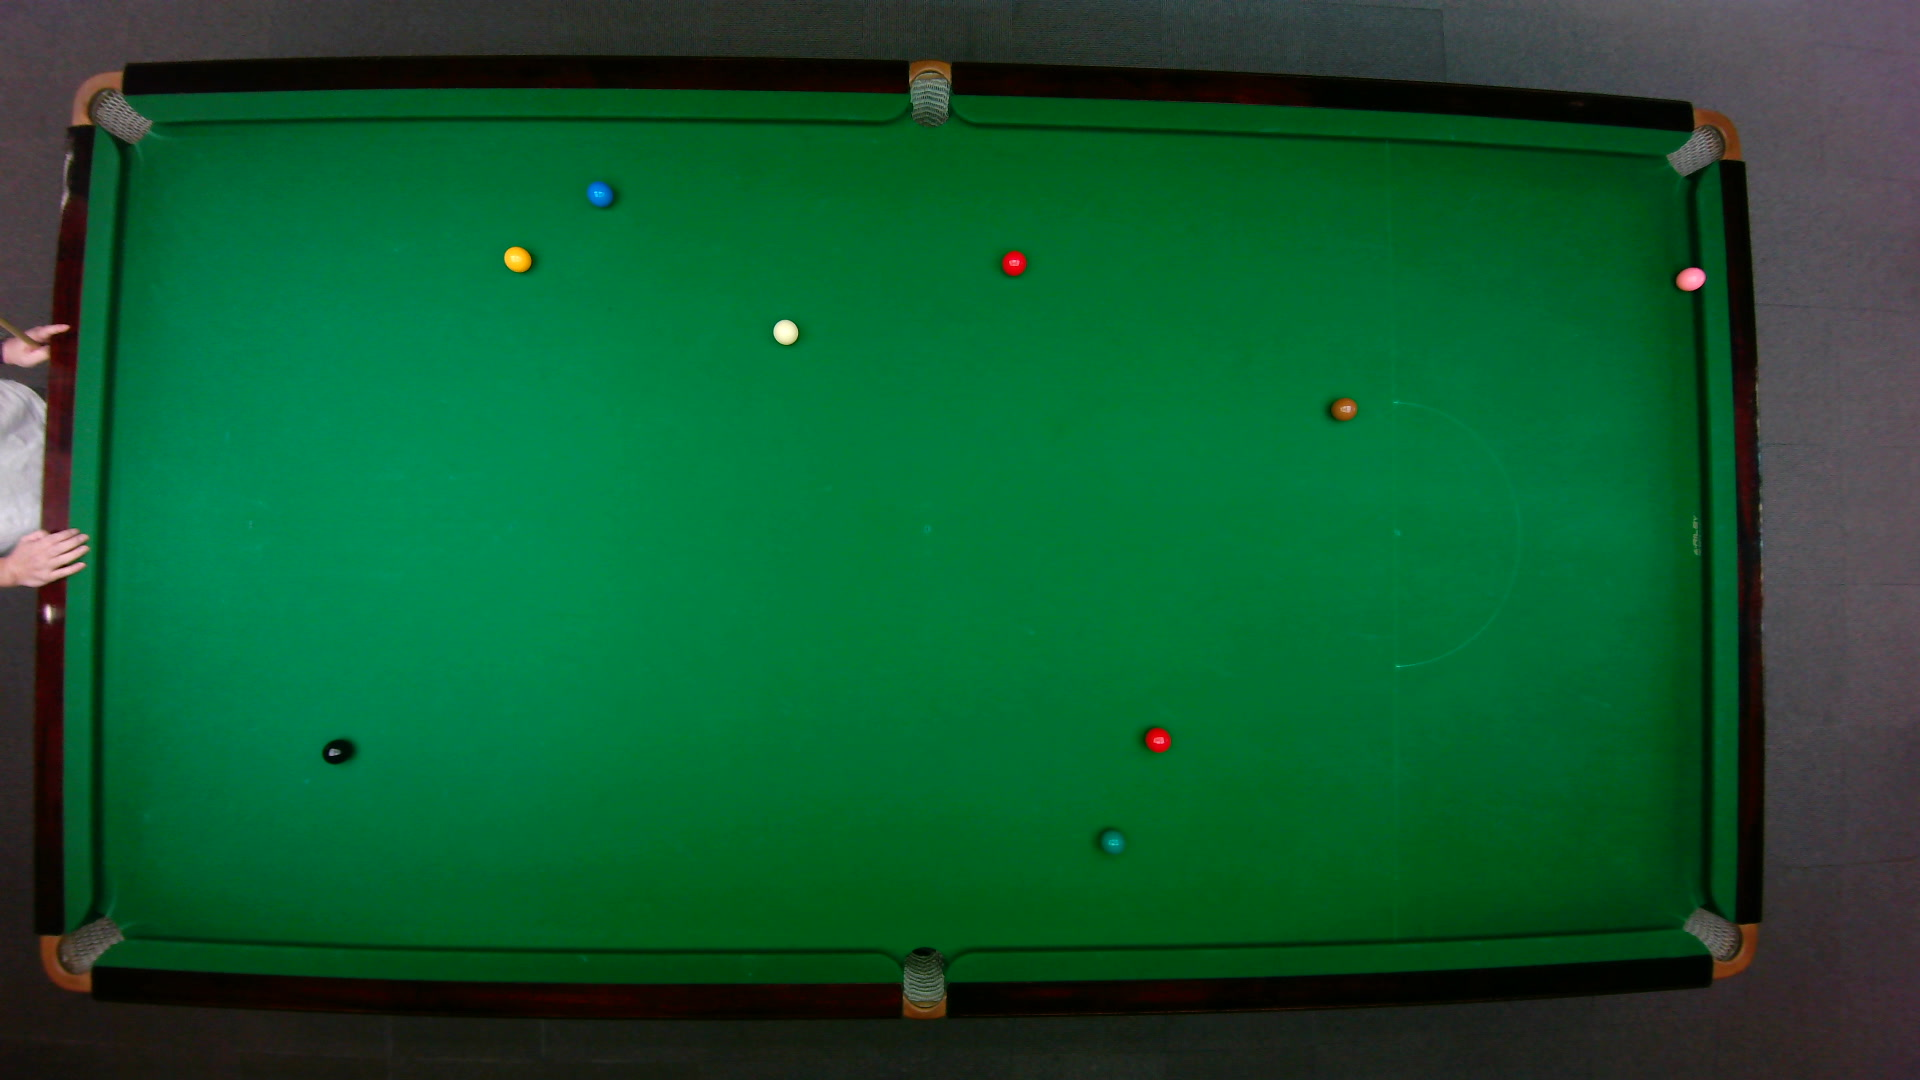bag: (37, 914, 125, 992), (69, 69, 153, 145), (1679, 905, 1758, 978), (1663, 107, 1741, 177), (901, 944, 944, 1021), (909, 57, 949, 127)
black: (320, 737, 352, 765)
blue: (585, 179, 615, 207)
brown: (1329, 396, 1358, 421)
green: (1097, 827, 1126, 855)
pink: (1673, 264, 1706, 291)
red: (1000, 248, 1029, 277), (1142, 725, 1172, 752)
white: (770, 316, 800, 345)
yellow: (501, 243, 531, 274)
zone: (1391, 400, 1520, 667)
